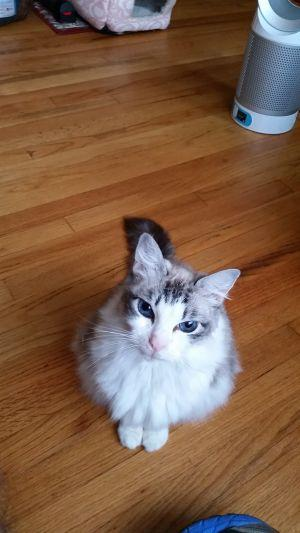ragdoll: (118, 232, 248, 368)
